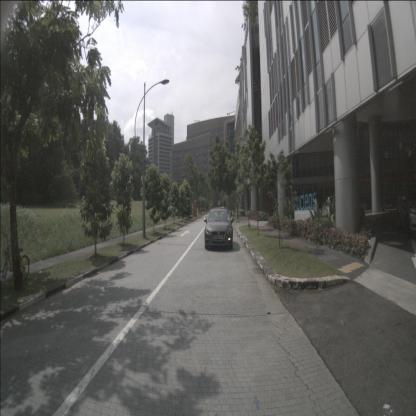vehicle-bicycle: (0, 231, 30, 291)
vehicle-car: (204, 208, 233, 250), (396, 184, 416, 239)
